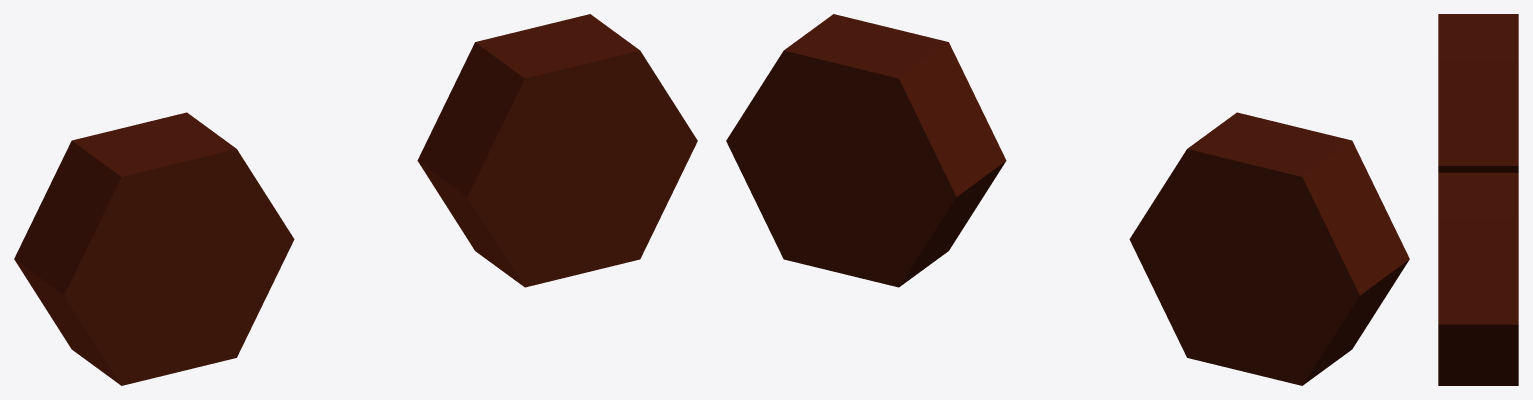
Rendered from burn_twin_barrel_port.glb.
3 views of the same model, side by side, from view 1: azimuth 30°, elevation 25°; view 2: azimuth 150°, elevation 25°; view 3: azimuth 270°, elevation 25° (orthographic). The views are drawn at different scales.
Parts seen in each view (by area): view 1: burn_flame, burn_flame.001; view 2: burn_flame, burn_flame.001; view 3: burn_flame.001, burn_flame.
Part boxes in pixels (x1,y1,x2,y2): burn_flame: [14, 112, 294, 385]; burn_flame.001: [417, 14, 697, 287]; burn_flame: [1129, 112, 1409, 385]; burn_flame.001: [726, 14, 1006, 287]; burn_flame.001: [1438, 172, 1518, 385]; burn_flame: [1438, 14, 1518, 172].
Size of the model in its own units: 8.8 by 2.77 by 1.2.
Materials: 1 (1 with a texture image).
